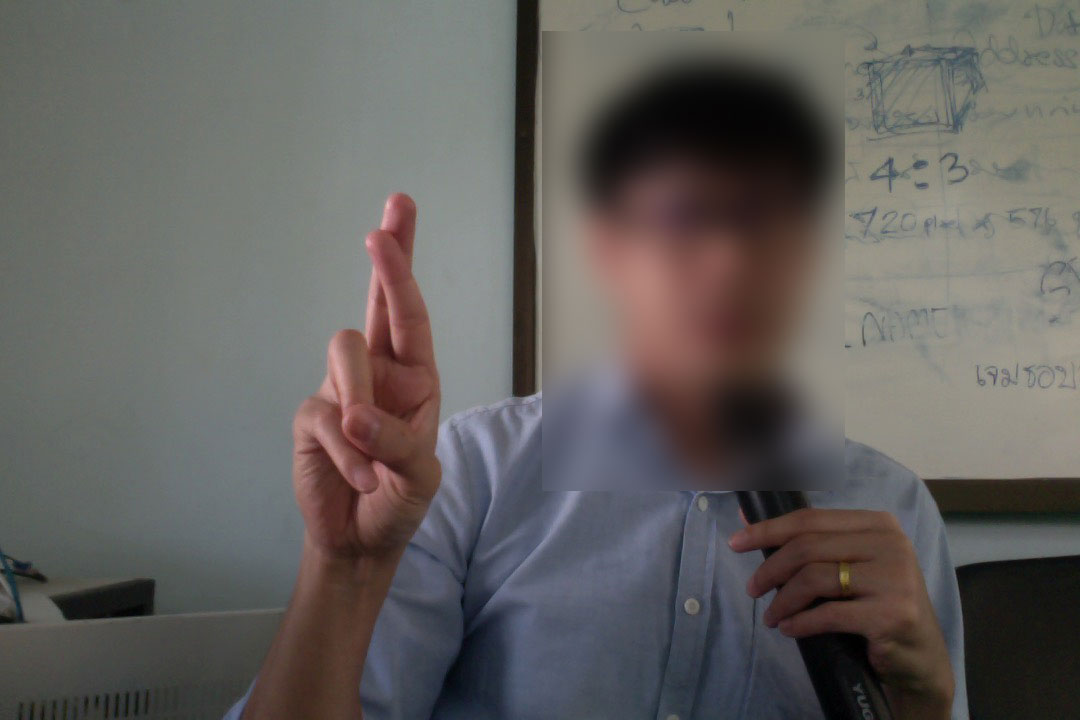rao: (278, 177, 447, 564)
